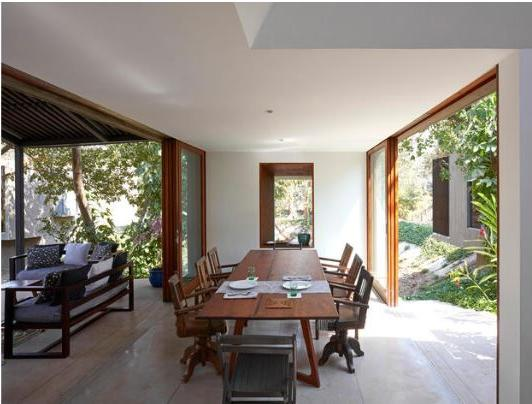chair: (209, 327, 302, 404), (317, 265, 383, 367), (159, 274, 224, 374), (311, 256, 365, 332), (194, 254, 239, 339), (322, 239, 358, 284), (204, 241, 240, 285)
door: (169, 143, 204, 278)
sofa: (2, 251, 139, 364), (4, 236, 127, 286)
table: (192, 243, 339, 381)
